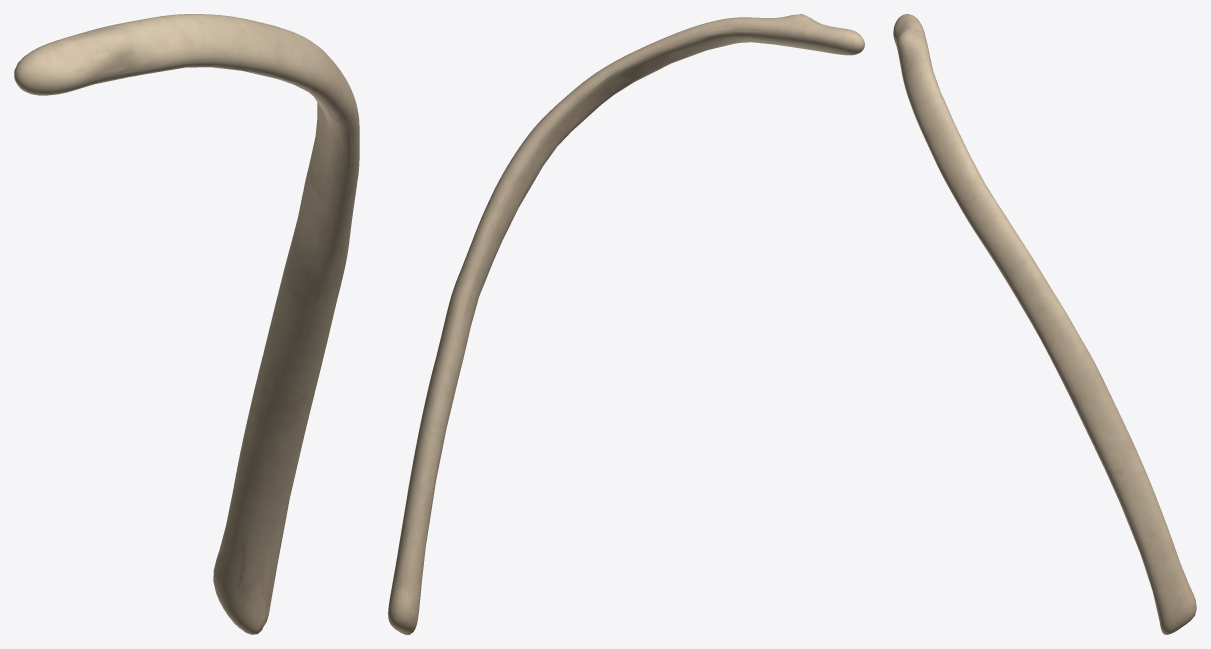
File: Rib L08.fbx
The picture shows the model from 3 angles, left to right: view 1: azimuth 30°, elevation 25°; view 2: azimuth 150°, elevation 25°; view 3: azimuth 270°, elevation 25°; orthographic projection. The views are drawn at different scales.
Parts seen in each view (by area): view 1: Rib L08 low, Rib L08, Rib L08 high; view 2: Rib L08 high, Rib L08, Rib L08 low; view 3: Rib L08 high, Rib L08, Rib L08 low.
Boxes of the visible parts, bbox=[...] form: Rib L08 low: bbox=[60, 23, 355, 611]; Rib L08: bbox=[14, 14, 359, 634]; Rib L08 high: bbox=[14, 14, 359, 634]; Rib L08 high: bbox=[389, 15, 864, 634]; Rib L08: bbox=[388, 14, 864, 634]; Rib L08 low: bbox=[395, 17, 828, 597]; Rib L08 high: bbox=[893, 15, 1196, 633]; Rib L08: bbox=[893, 14, 1196, 634]; Rib L08 low: bbox=[895, 22, 1188, 619].
Bounding box in the file's own units: 14.56 × 24.83 × 13.73.
1 material, 1 textured.
